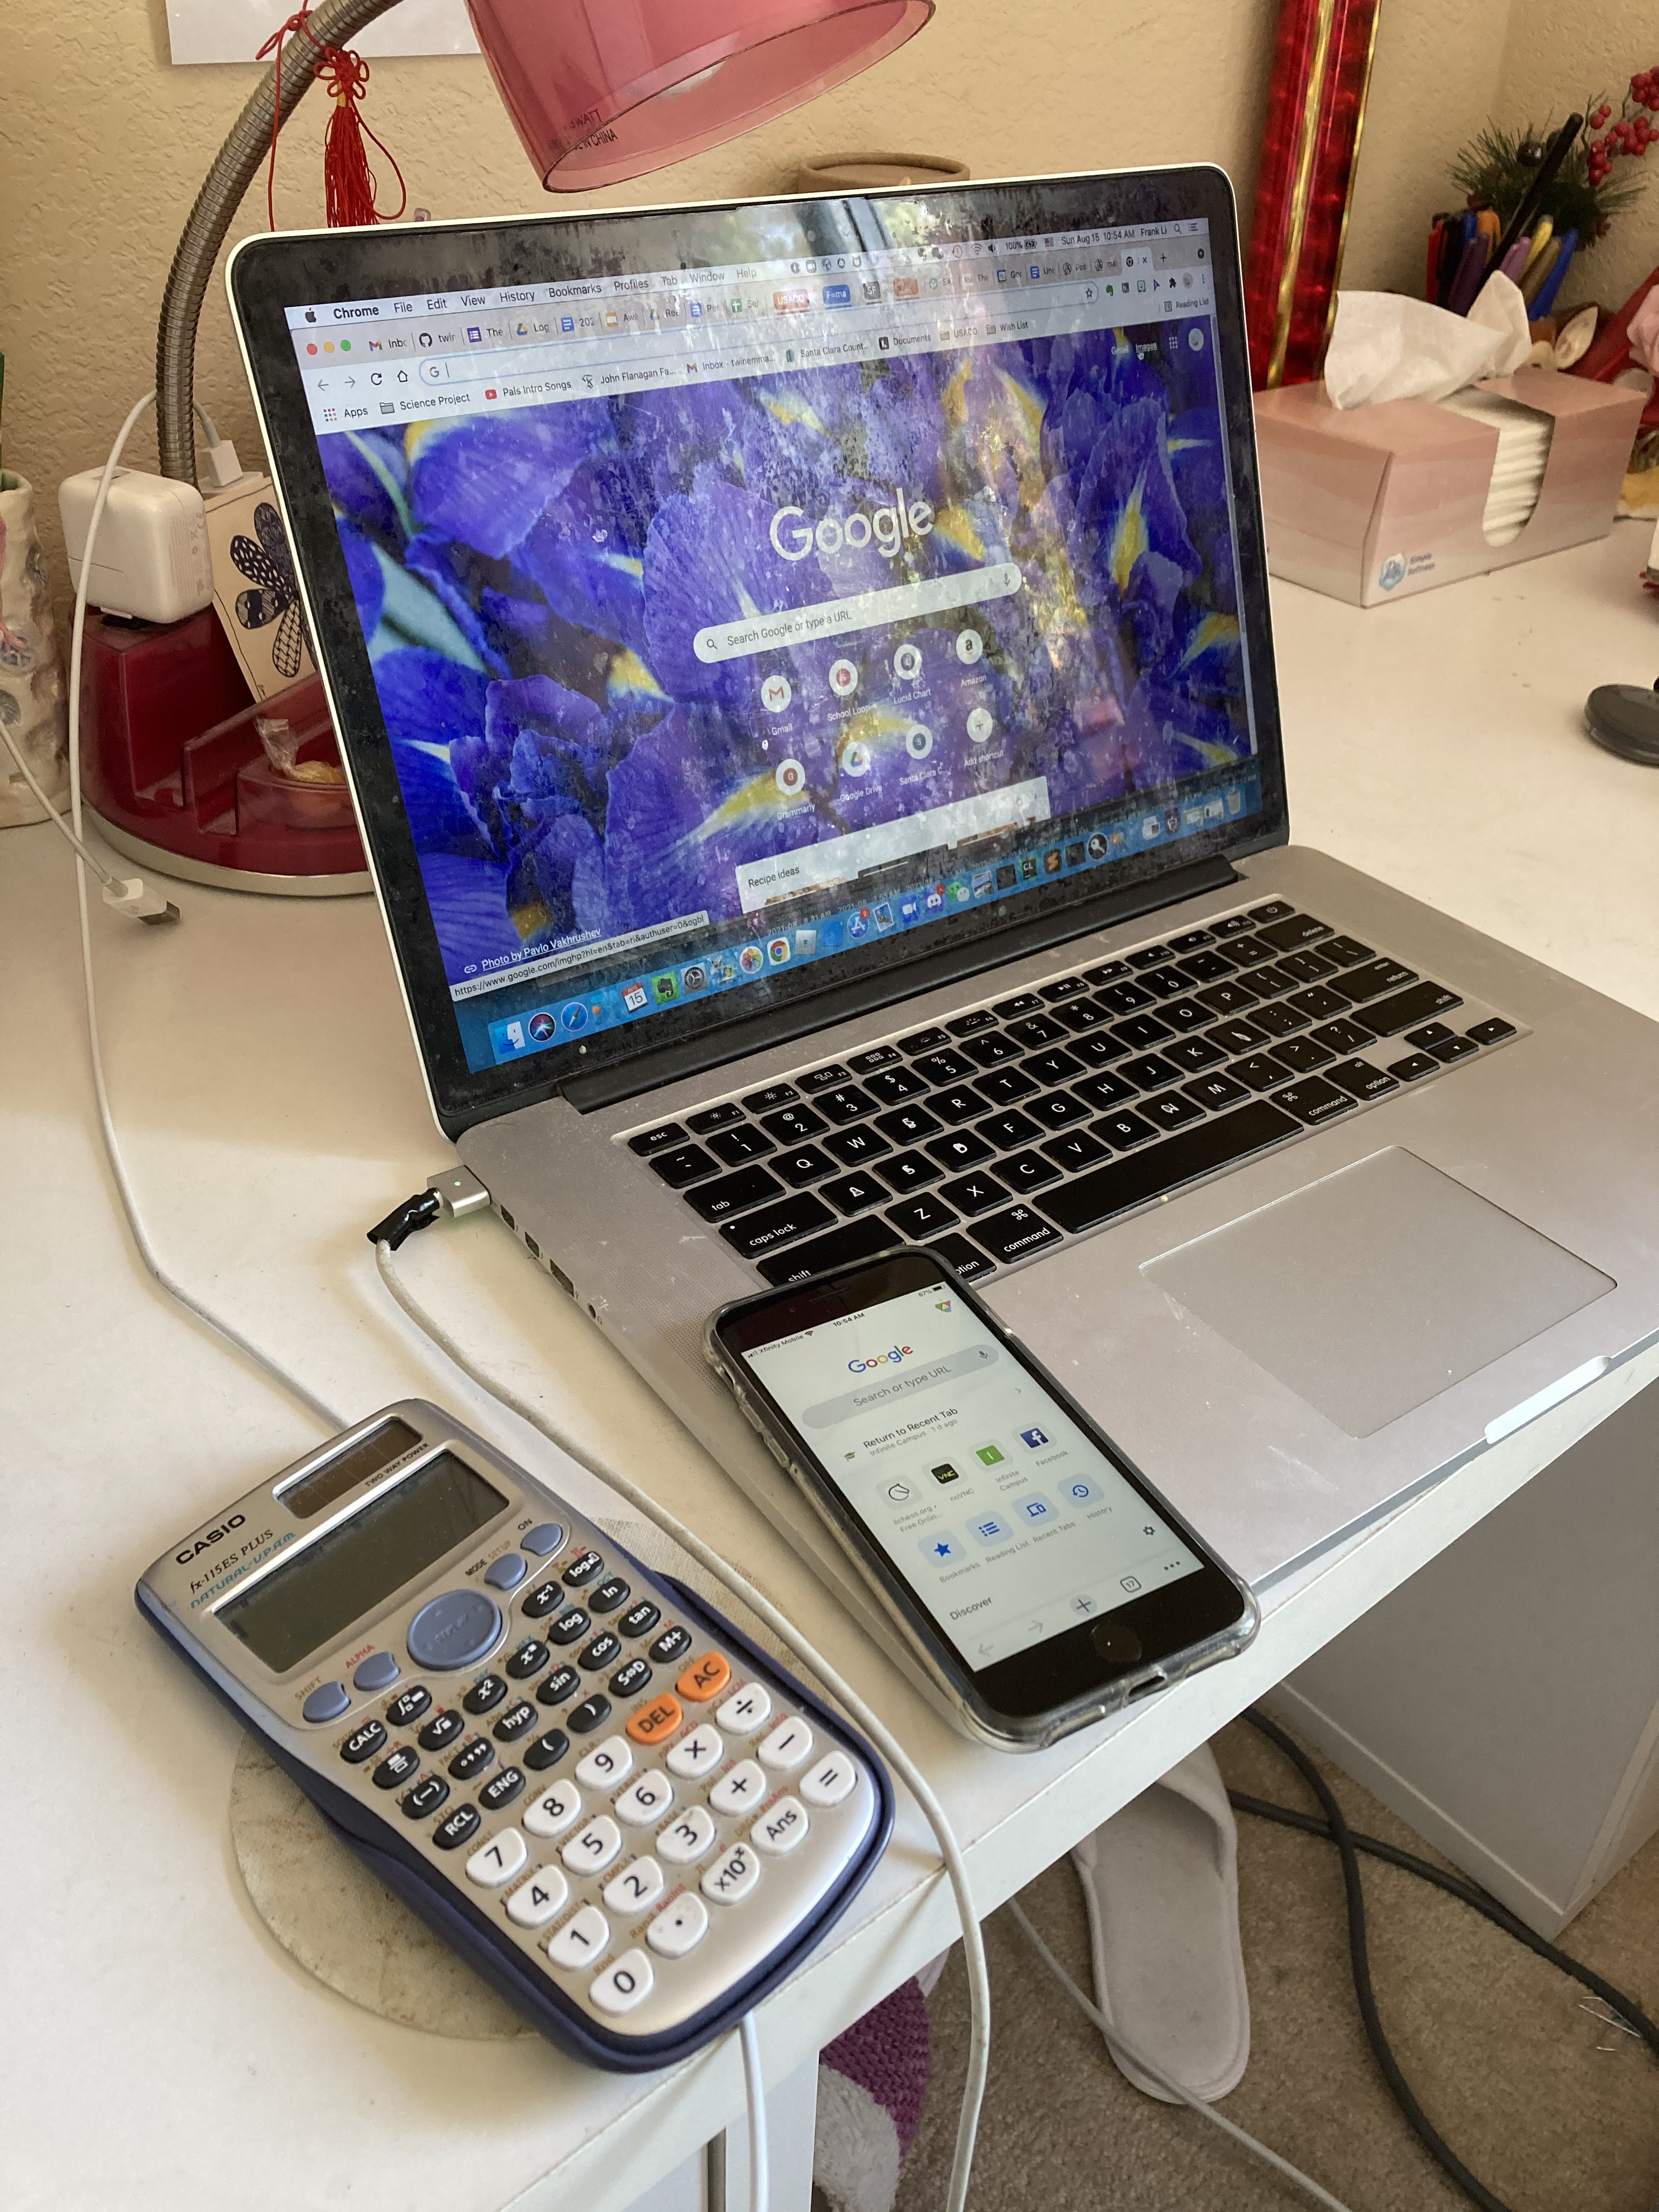Calculator: (125, 1400, 894, 2045)
Cell Phone: (706, 1261, 1262, 1738)
